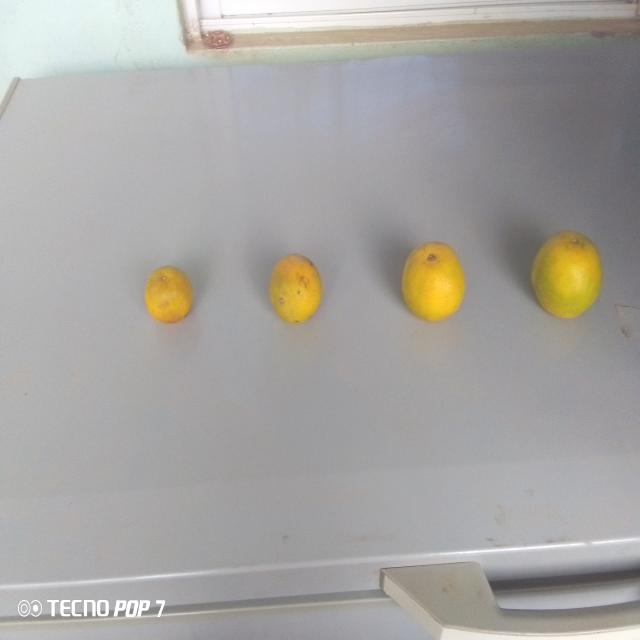agrume: (531, 226, 605, 326), (397, 238, 467, 328), (266, 247, 322, 328), (146, 258, 192, 330)
